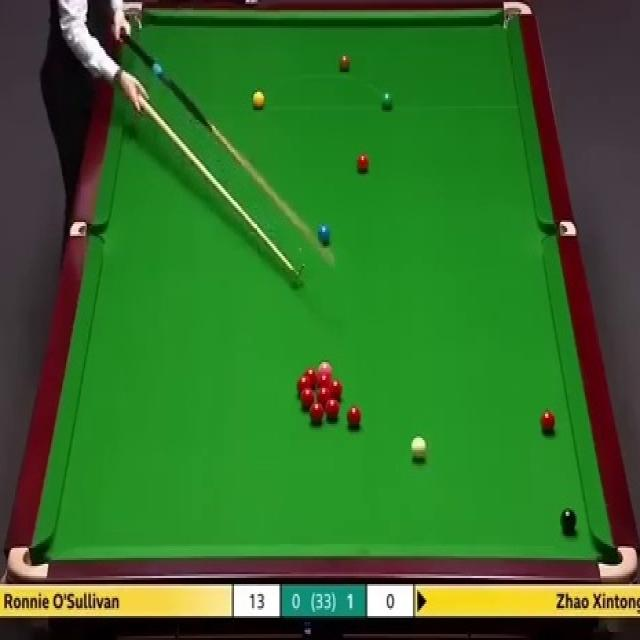pocket: (7, 546, 49, 582), (598, 543, 638, 579), (504, 2, 531, 30), (68, 222, 105, 238), (542, 223, 576, 237), (127, 3, 145, 29)
